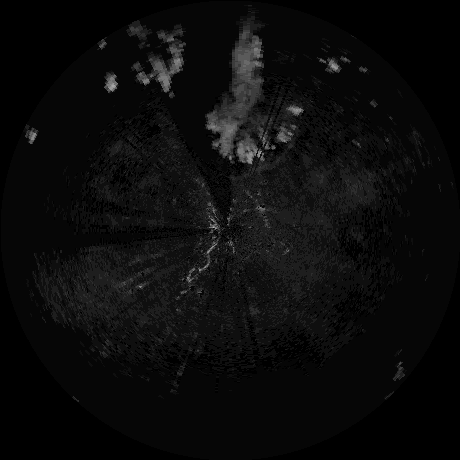frontgust: (230, 141, 296, 182)
